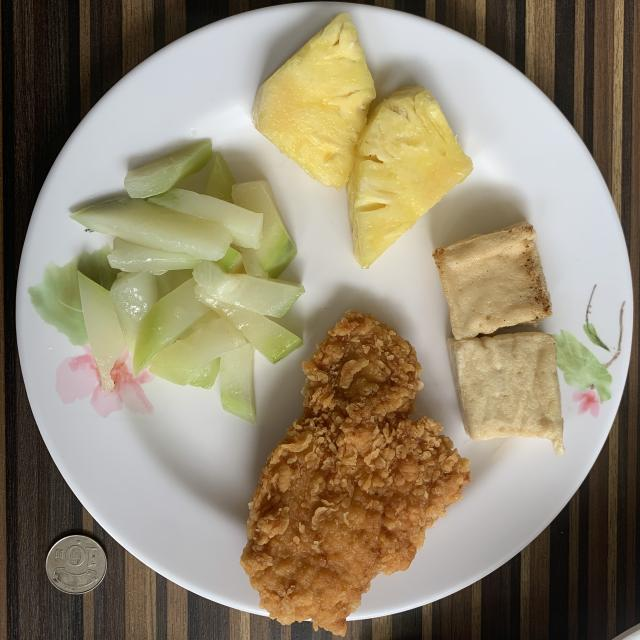coin: (46, 535, 106, 594)
creamy tofu -without sauce-: (432, 222, 565, 455)
fried chicken cutlet: (241, 311, 470, 635)
pineapple: (252, 14, 472, 268)
